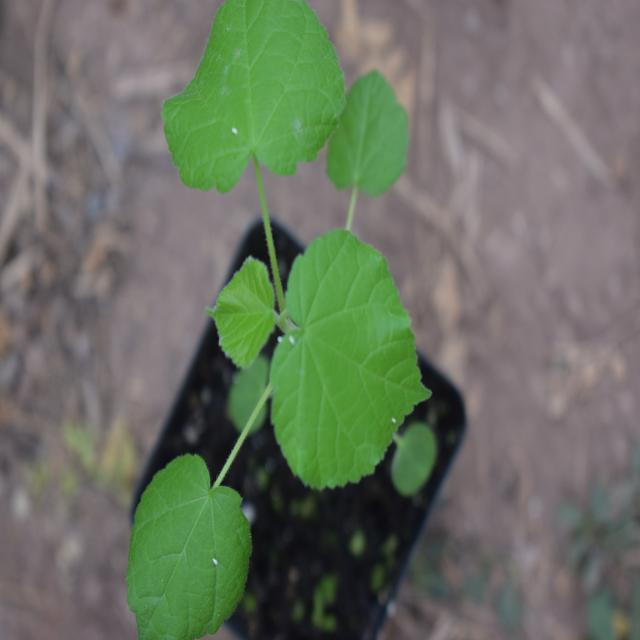abutilon theophrasti: (101, 0, 437, 596)
